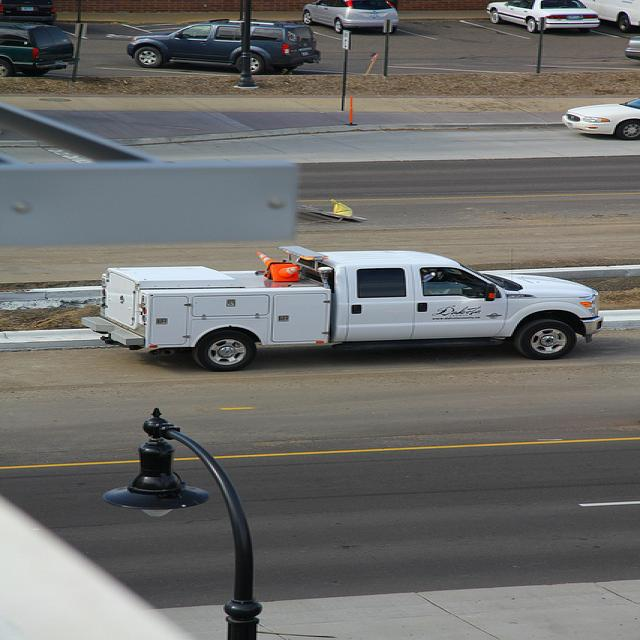Vehicle: (81, 246, 604, 372), (127, 22, 321, 75), (1, 18, 74, 78), (486, 1, 600, 34), (560, 97, 640, 139), (302, 0, 400, 33), (576, 0, 640, 33), (1, 0, 60, 26), (623, 35, 640, 61)
